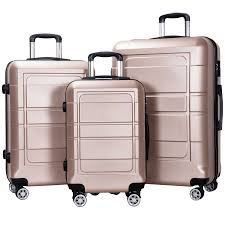suitcase: (111, 12, 224, 201), (3, 33, 90, 199), (59, 52, 149, 207)
